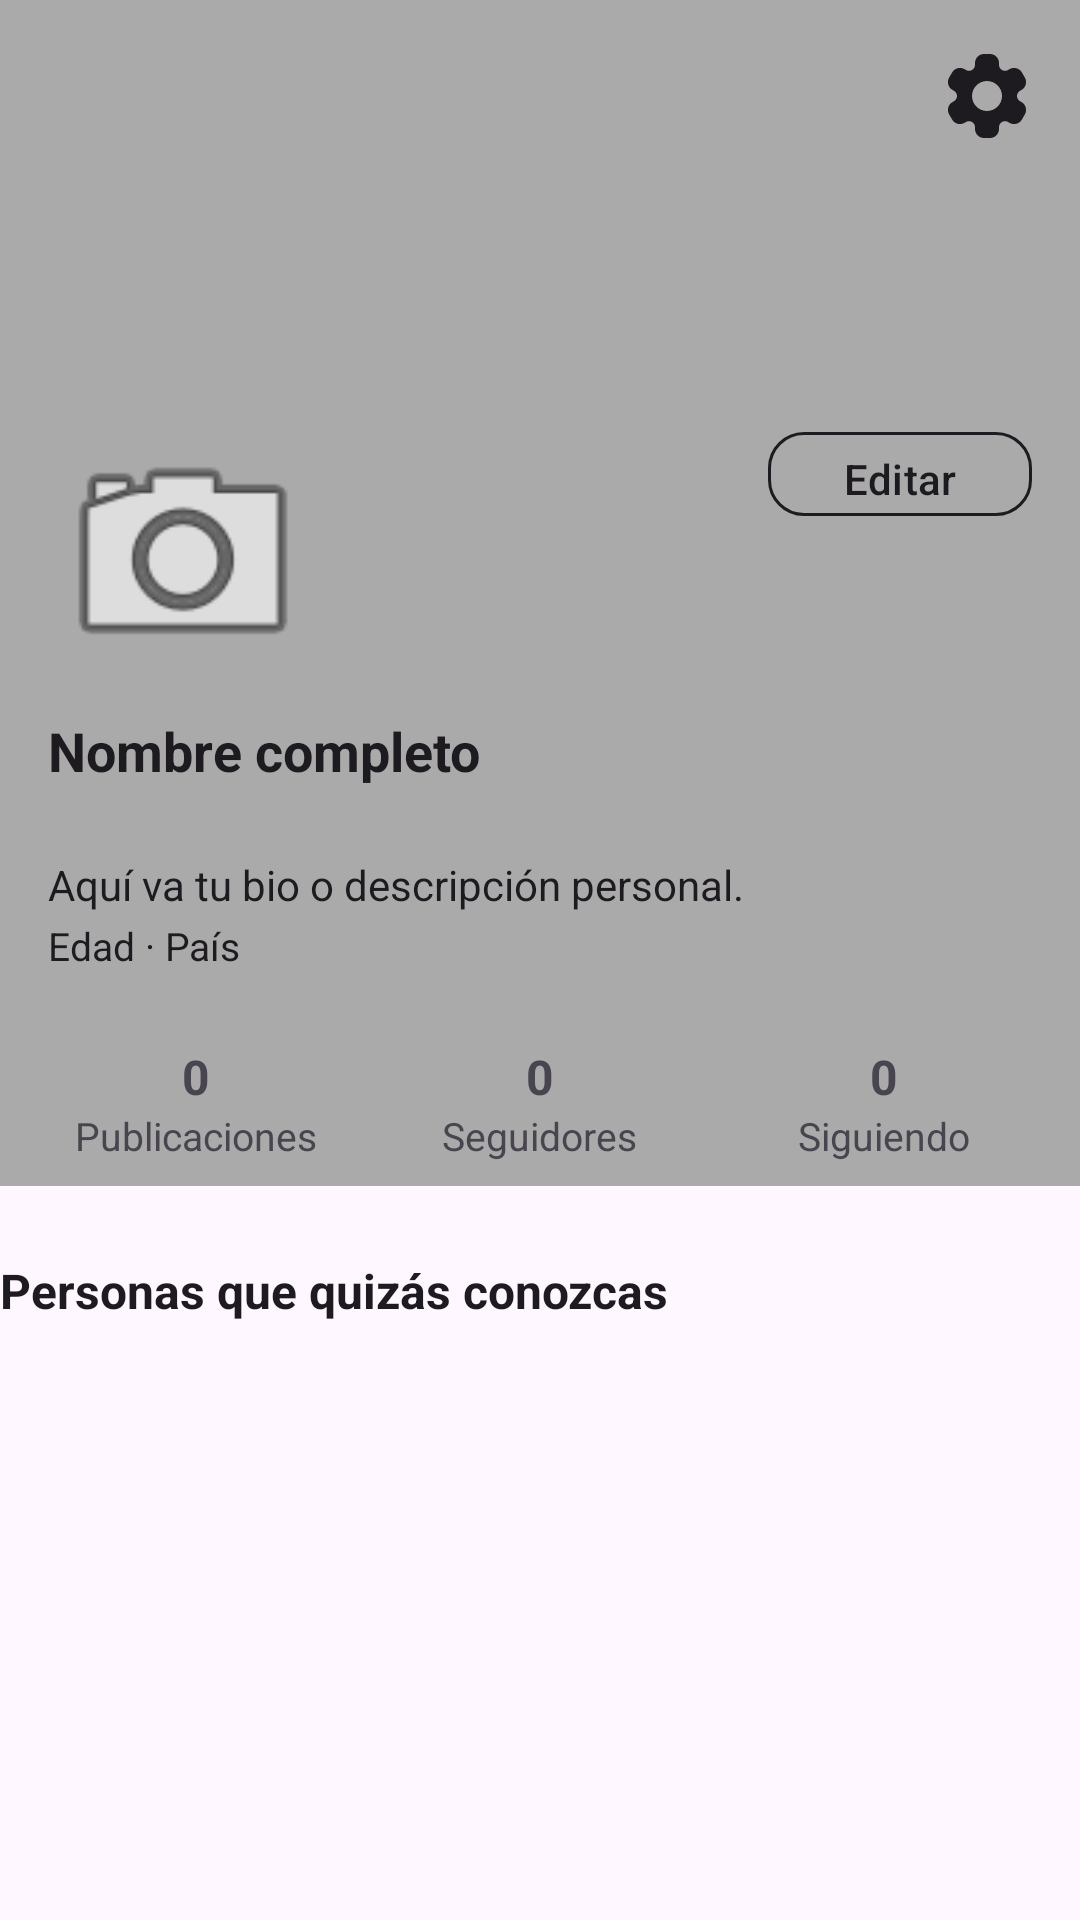

Named icons in this screenshot (1080x1920) and their centers, (x=x, y=y):
camera: (x=183, y=551)
Configuración: (x=987, y=96)
